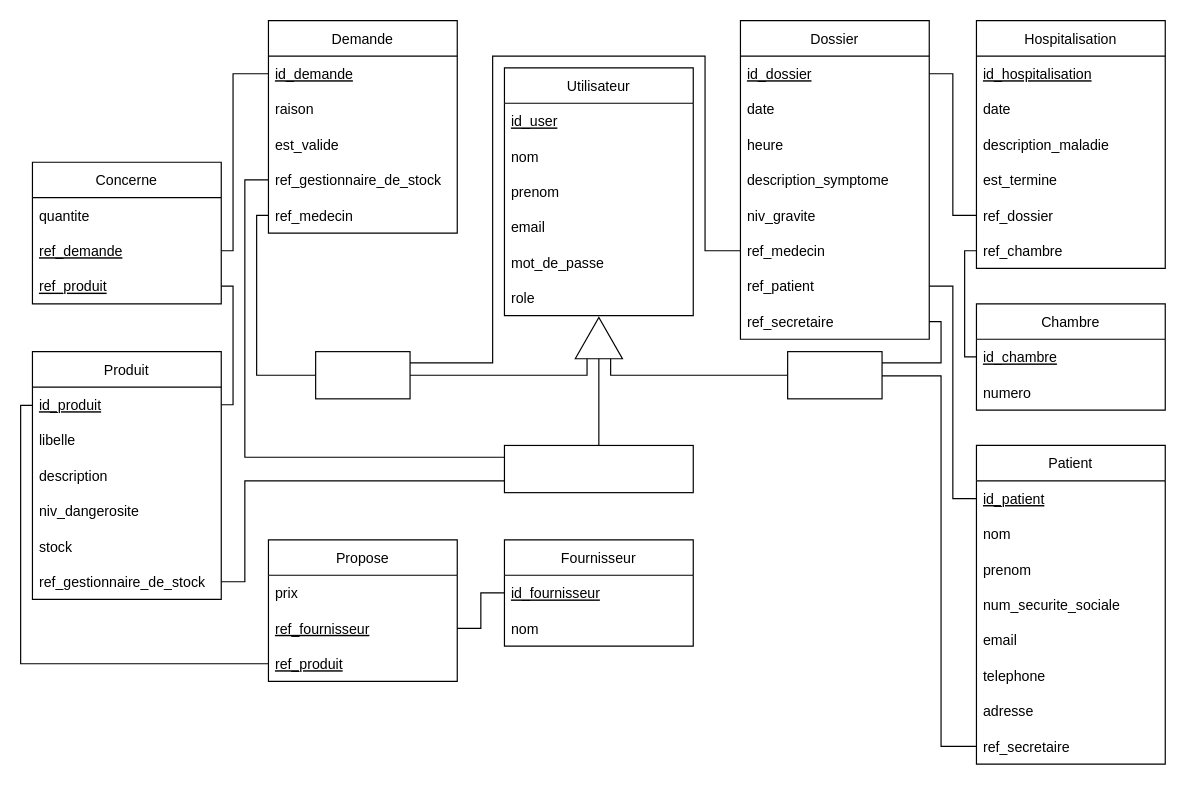
Image size: 1186x785. Some labels were removed from this diagram. Here are the shapes that lost their labels. From the top down, the centre of each, then its label:
[362,374]: Medecin
[834,374]: Secretaire
[598,468]: Gestionnaire_de_stock
